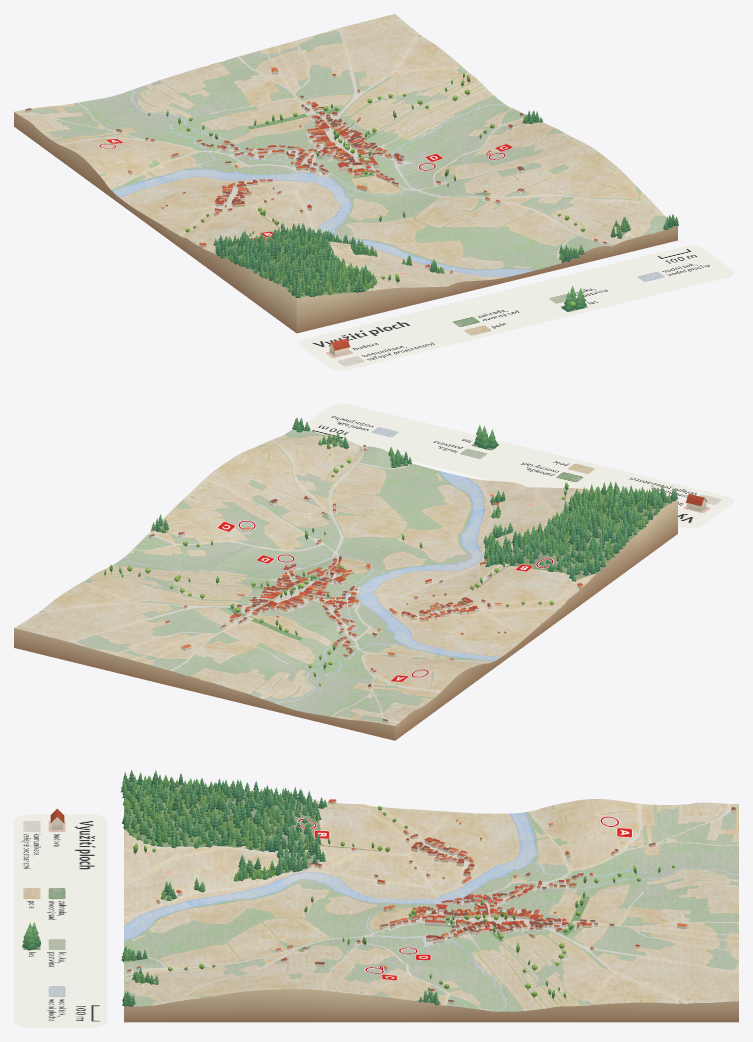
File: Frymburk_sada1_SMO5.glb
3 renders of one model, top to bottom at view 1: azimuth 30°, elevation 25°; view 2: azimuth 150°, elevation 25°; view 3: azimuth 270°, elevation 25°, orthographic. The views are drawn at different scales.
Parts seen in each view (by area): view 1: DMR_SMO5, legenda_panel, stromy_SMO5, budovy_SMO5, legenda_objekty; view 2: DMR_SMO5, legenda_panel, stromy_SMO5, budovy_SMO5, legenda_objekty; view 3: DMR_SMO5, legenda_panel, stromy_SMO5, budovy_SMO5, legenda_objekty.
Boxes of the visible parts, x1,y1,x2,y2 form: DMR_SMO5: (14,14,677,333); legenda_panel: (299,245,733,370); stromy_SMO5: (147,72,678,297); budovy_SMO5: (25,67,607,273); legenda_objekty: (329,285,586,356); DMR_SMO5: (14,429,677,740); legenda_panel: (303,403,733,528); stromy_SMO5: (104,417,677,686); budovy_SMO5: (149,445,583,722); legenda_objekty: (474,425,707,511); DMR_SMO5: (124,780,738,1022); legenda_panel: (14,814,107,1027); stromy_SMO5: (121,769,674,1006); budovy_SMO5: (126,799,735,1005); legenda_objekty: (22,808,64,950).
Size of the model in its own units: 1490 by 186 by 2140.
Materials: 12 (6 with a texture image).
